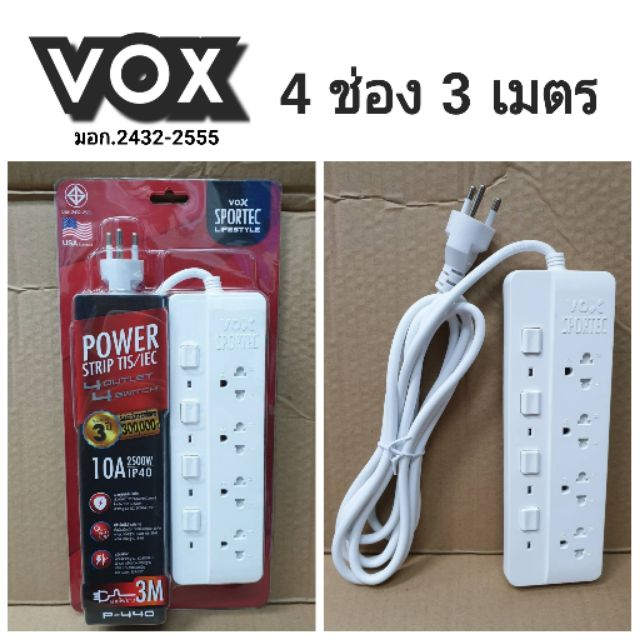Three_eye_plug: (476, 244, 628, 594), (140, 265, 274, 594)
